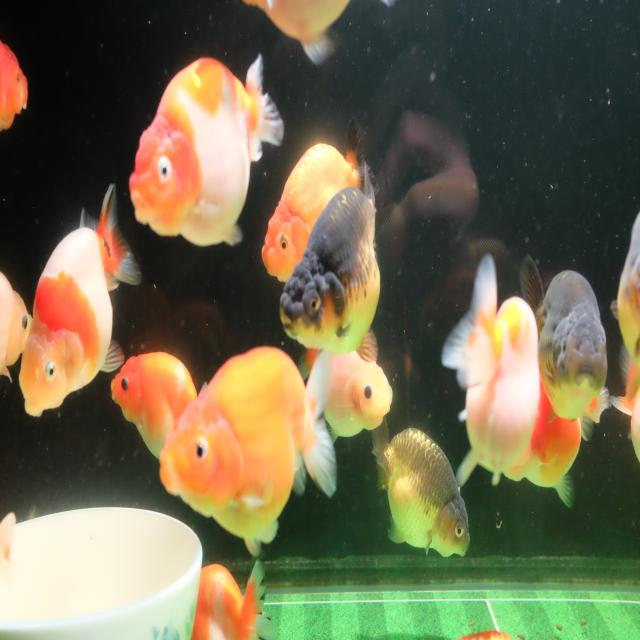Goldfish: (156, 339, 340, 556), (127, 49, 286, 248), (16, 181, 142, 418), (442, 253, 538, 491), (278, 159, 383, 353), (261, 115, 379, 286), (516, 254, 612, 430), (370, 409, 472, 567), (110, 346, 198, 466), (189, 558, 282, 640), (322, 342, 392, 444), (0, 268, 33, 387), (0, 33, 32, 140)
